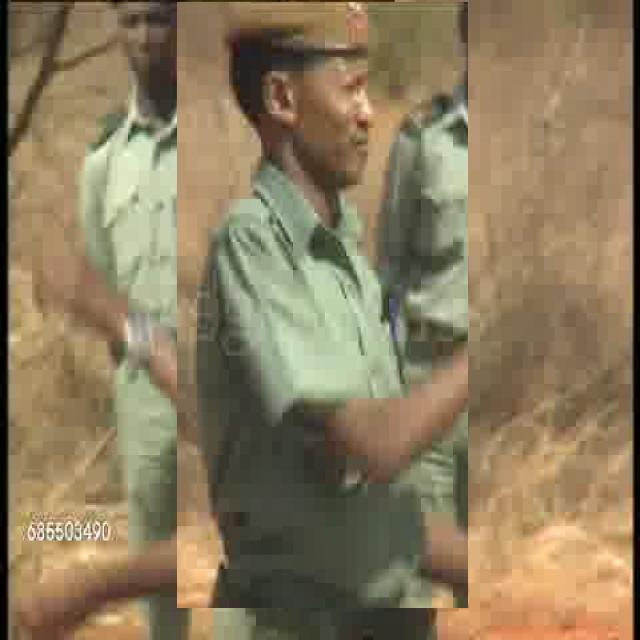poacher: (177, 2, 468, 608), (79, 2, 242, 206)
